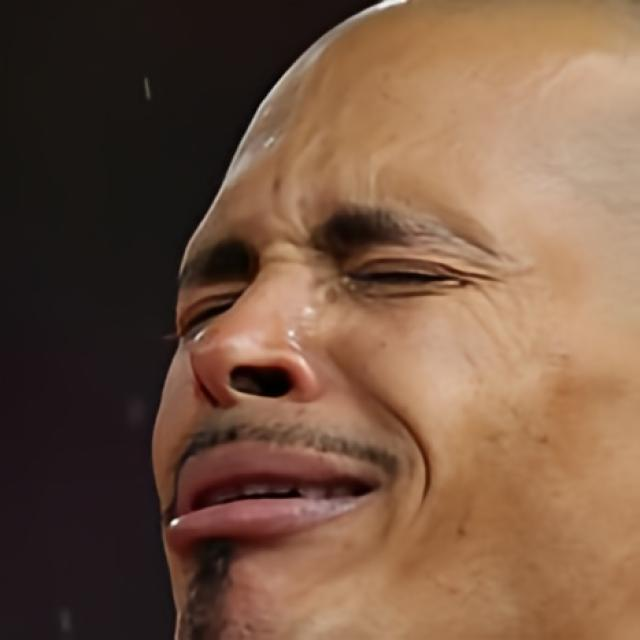sad: (148, 3, 640, 638)
